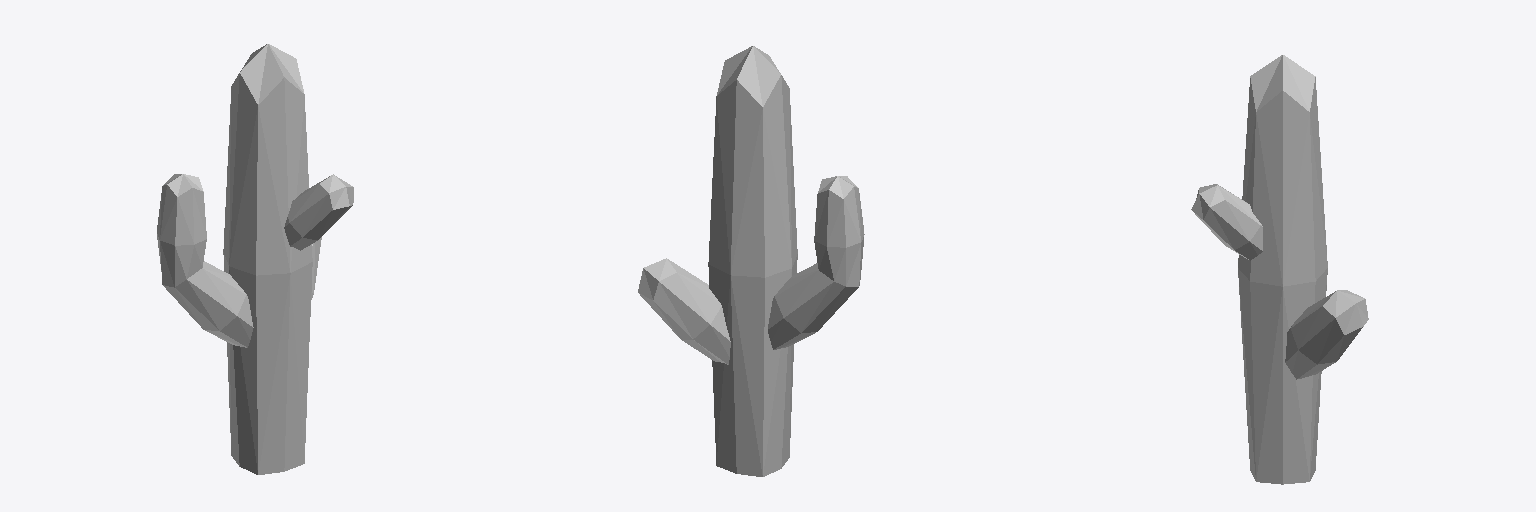
File: Cactus.obj
3 renders of one model, left to right at view 1: azimuth 30°, elevation 25°; view 2: azimuth 150°, elevation 25°; view 3: azimuth 270°, elevation 25°, orthographic.
Parts seen in each view (by area): view 1: Cactus_Cube.007; view 2: Cactus_Cube.007; view 3: Cactus_Cube.007.
Boxes of the visible parts, x1,y1,x2,y2 form: Cactus_Cube.007: [157, 44, 353, 474]; Cactus_Cube.007: [638, 46, 864, 476]; Cactus_Cube.007: [1191, 55, 1368, 484].
Bounding box in the file's own units: 1.28 × 2.68 × 1.04.